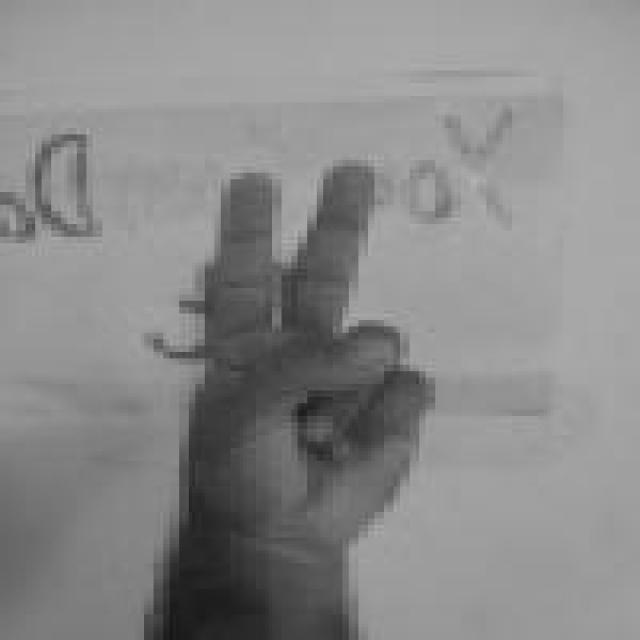V: (184, 154, 440, 560)
